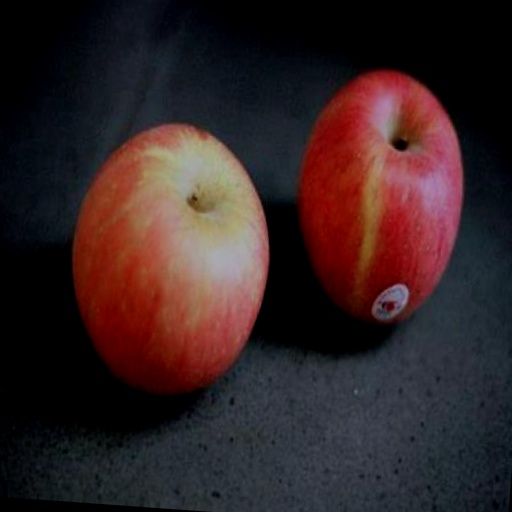fruit: (72, 124, 269, 396), (297, 70, 463, 325)
